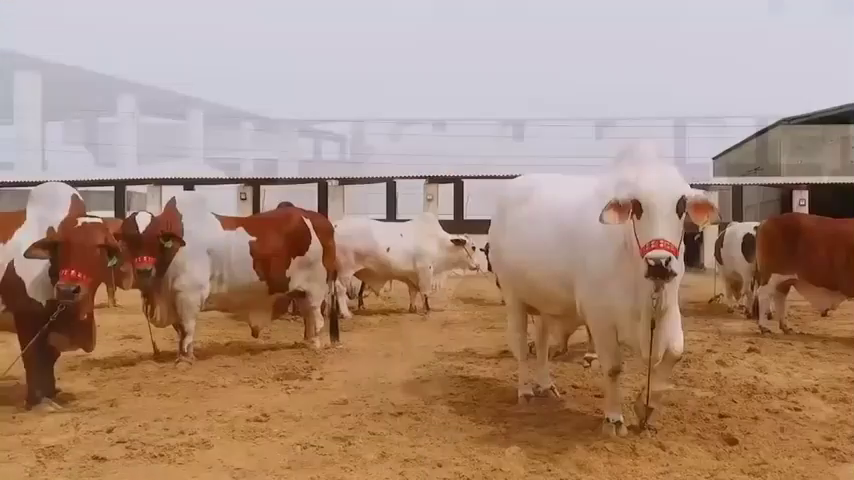bo: (483, 136, 695, 443), (117, 174, 338, 372), (1, 182, 117, 416), (330, 202, 481, 319), (750, 199, 854, 341), (694, 203, 768, 317)
